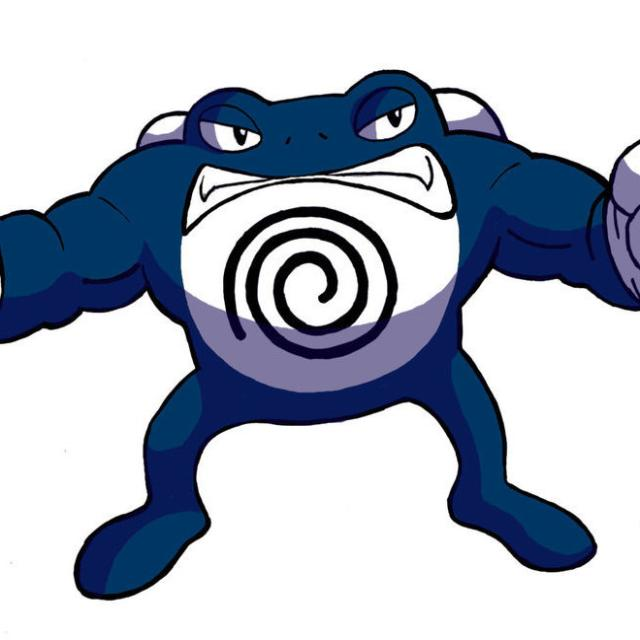Poliwrath: (96, 64, 570, 588)
